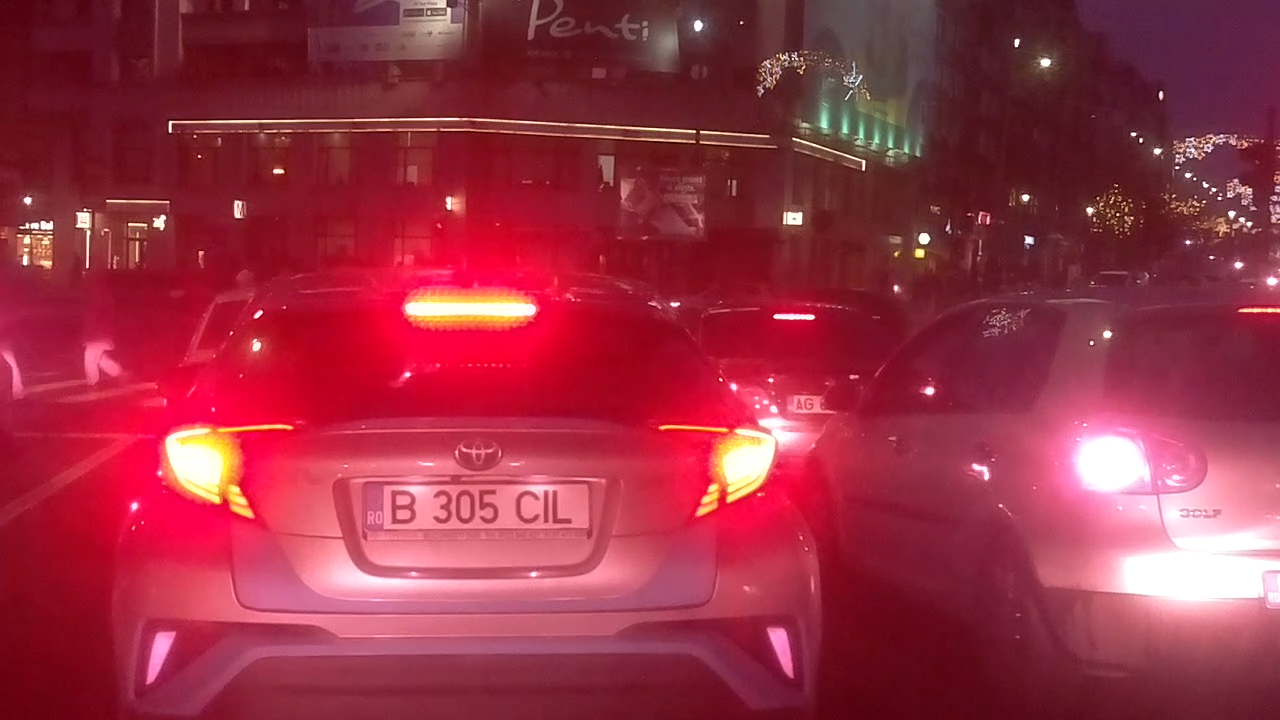license-plate: (356, 476, 597, 536)
